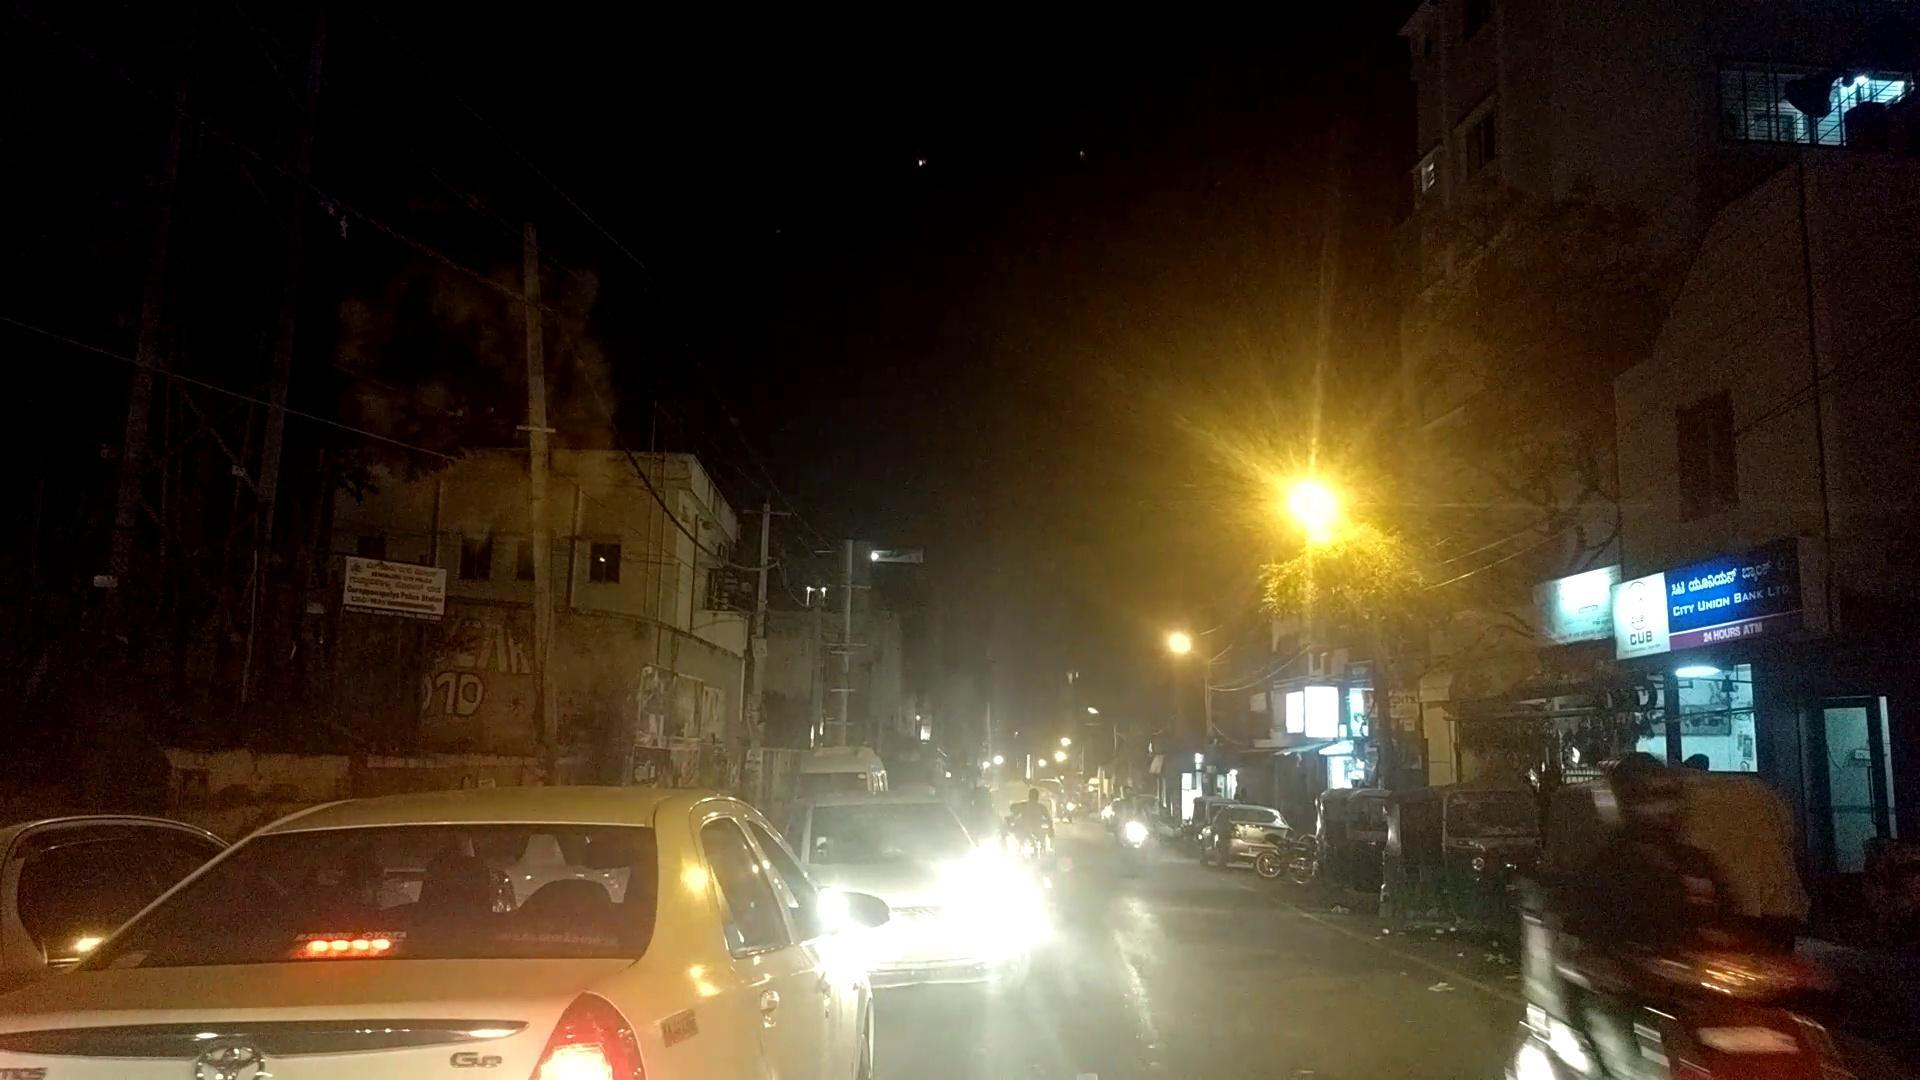on: (1189, 322, 1415, 659)
